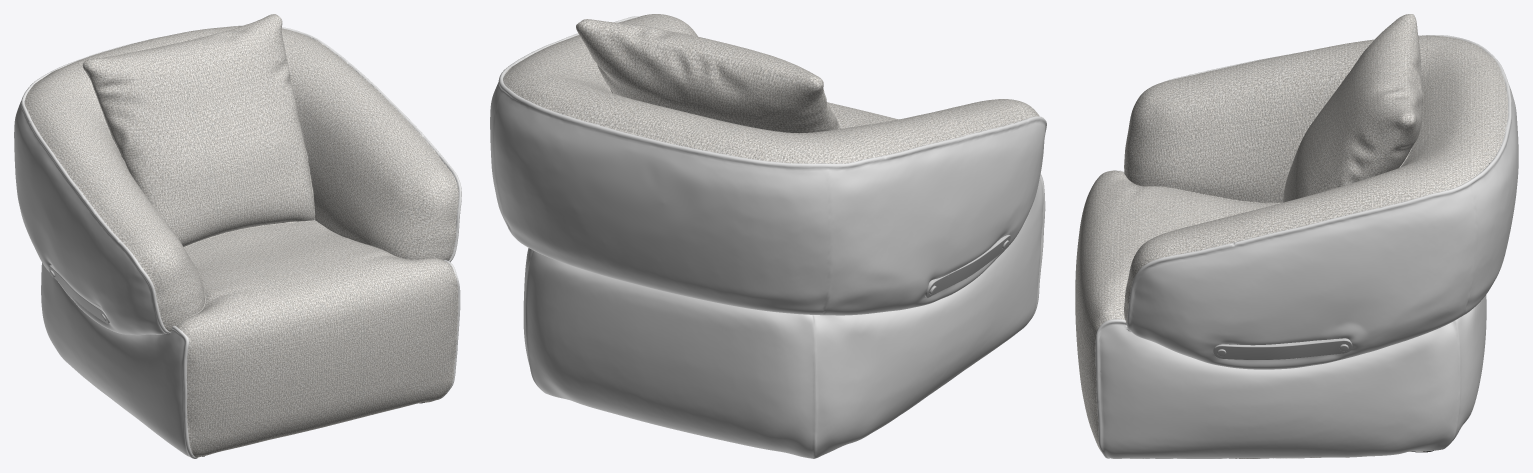
Rendered from St_Hilker_Lily.glb.
3 views of the same model, side by side, from view 1: azimuth 30°, elevation 25°; view 2: azimuth 150°, elevation 25°; view 3: azimuth 270°, elevation 25° (orthographic). The views are drawn at different scales.
Visible parts, largest first — view 1: Lily; view 2: Lily; view 3: Lily.
Boxes of the visible parts, bbox=[...] form: Lily: bbox=[14, 14, 461, 458]; Lily: bbox=[490, 14, 1046, 458]; Lily: bbox=[1075, 14, 1518, 458].
Bounding box in the file's own units: 1.04 × 0.8699 × 1.05.
Materials: 4 (1 with a texture image).
